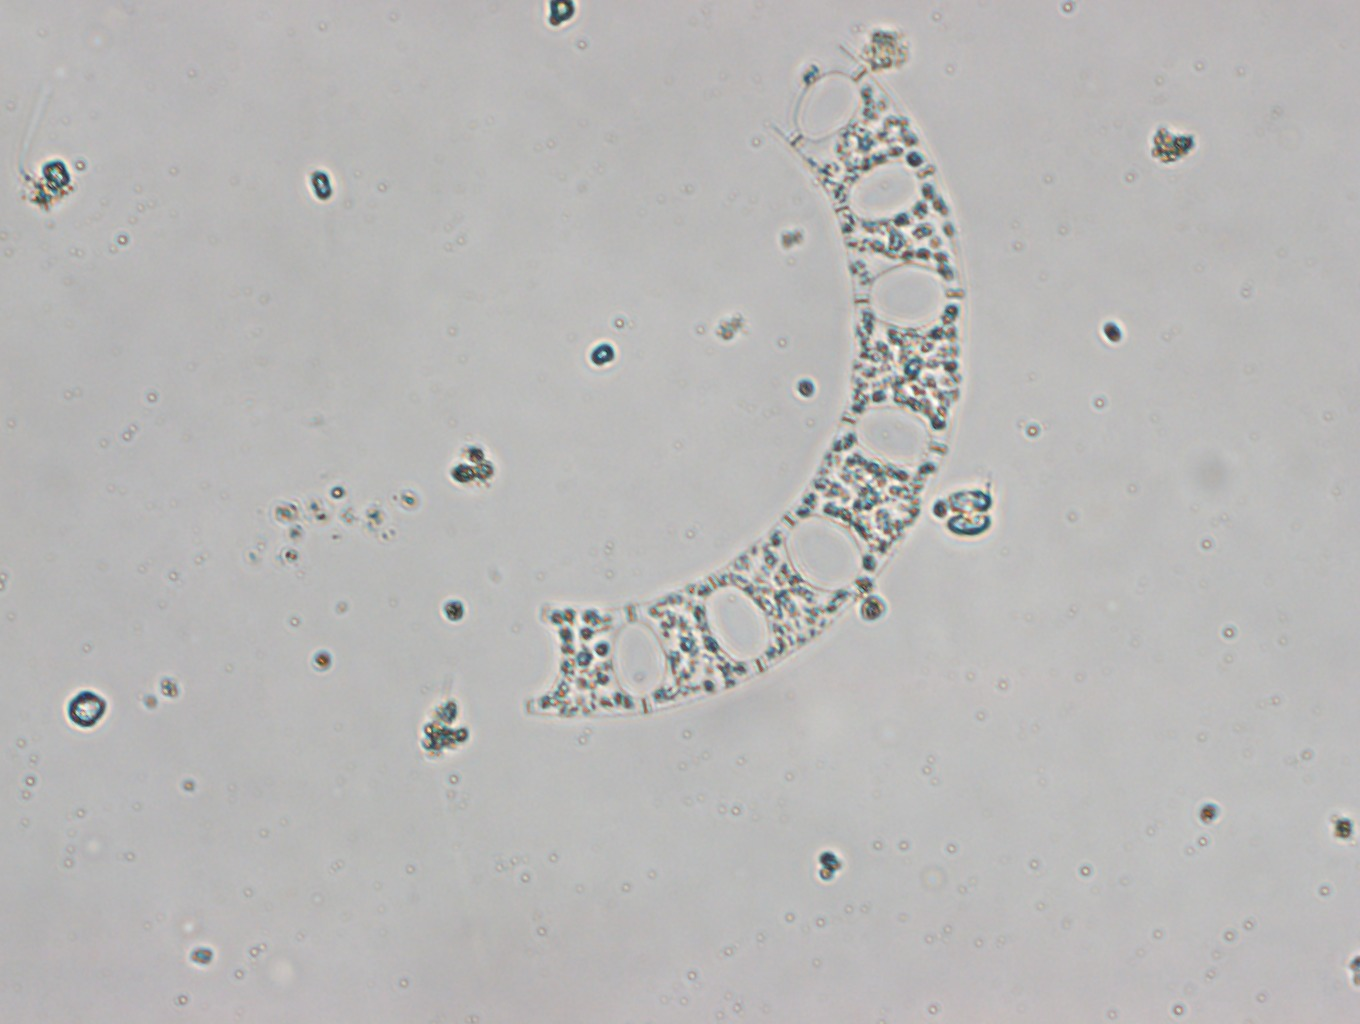eucampia: (524, 46, 965, 722)
